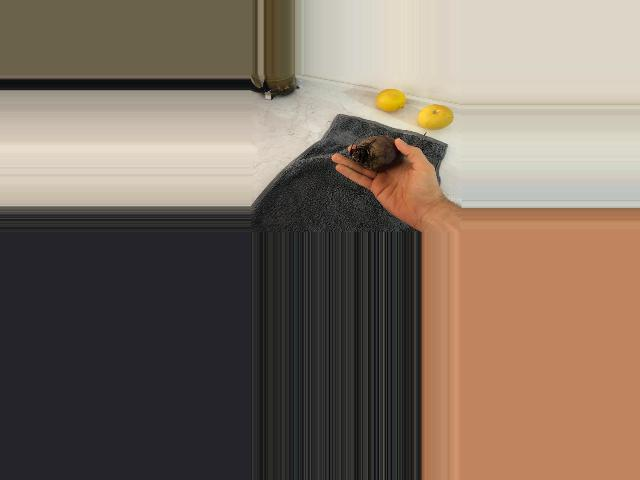beet: (350, 132, 426, 171)
